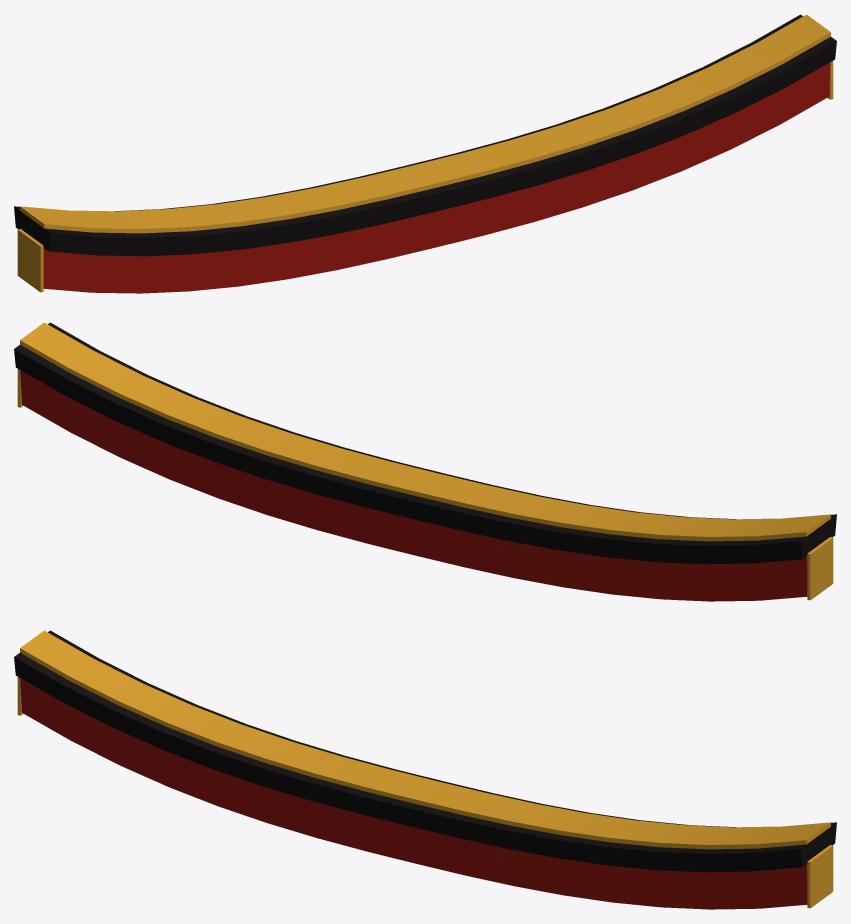
The model's file is SM_Bld_Lacquer_Gate_Beam_01.fbx.
The picture shows the model from 3 angles, top to bottom: view 1: azimuth 30°, elevation 25°; view 2: azimuth 150°, elevation 25°; view 3: azimuth 330°, elevation 25°; orthographic projection.
Visible parts, largest first — view 1: SM_Bld_Lacquer_Gate_Beam_01; view 2: SM_Bld_Lacquer_Gate_Beam_01; view 3: SM_Bld_Lacquer_Gate_Beam_01.
Part boxes in pixels (<box>): SM_Bld_Lacquer_Gate_Beam_01: <box>14,14,836,293</box>; SM_Bld_Lacquer_Gate_Beam_01: <box>14,322,836,601</box>; SM_Bld_Lacquer_Gate_Beam_01: <box>14,630,836,909</box>.
Size of the model in its own units: 7.56 by 1.1 by 0.6.
1 material, 1 textured.
